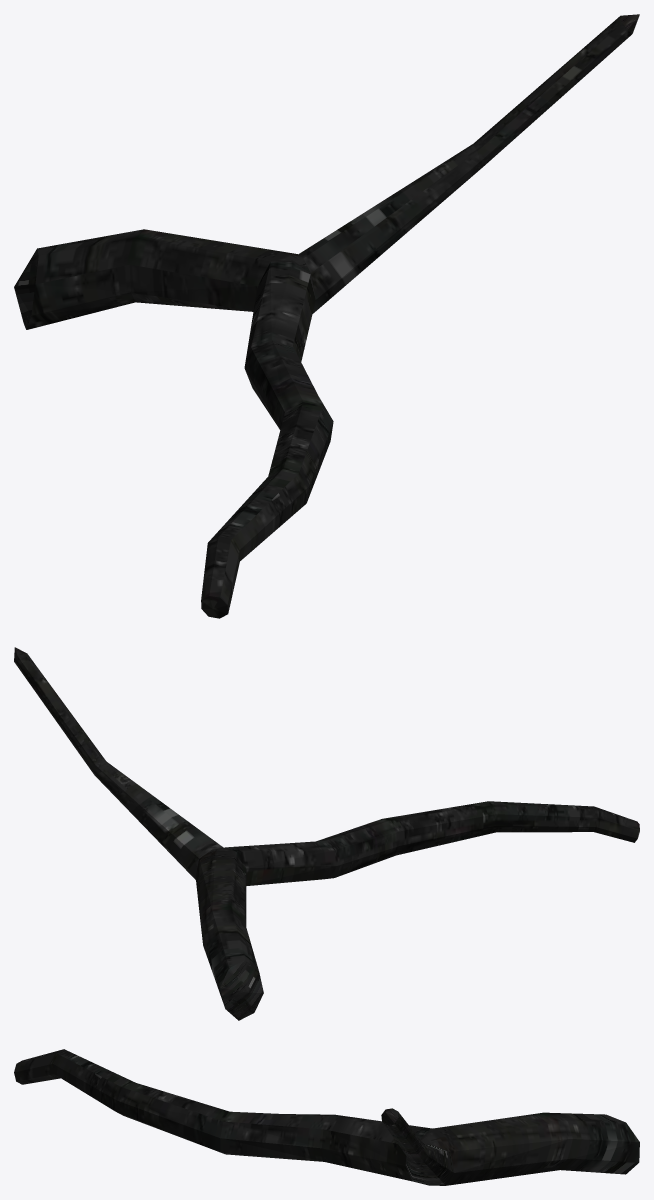
File: 1_BURNT_01_20-transformed.glb
3 views of the same model, one above another, from view 1: azimuth 30°, elevation 25°; view 2: azimuth 150°, elevation 25°; view 3: azimuth 270°, elevation 25° (orthographic). The views are drawn at different scales.
Parts seen in each view (by area): view 1: default; view 2: default; view 3: default.
Part boxes in pixels (x1,y1,x2,y2): default: (14,14,639,618); default: (14,647,639,1020); default: (14,1049,639,1185).
Size of the model in its own units: 1.39 by 0.6124 by 1.42.
1 material, 1 textured.
